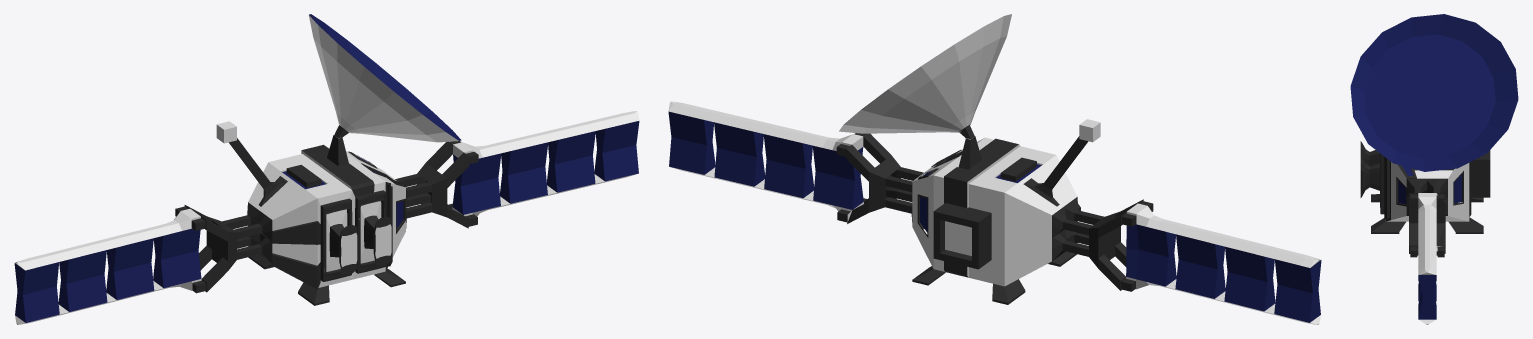
File: SatelliteEnemy.fbx
The picture shows the model from 3 angles, left to right: view 1: azimuth 30°, elevation 25°; view 2: azimuth 150°, elevation 25°; view 3: azimuth 270°, elevation 25°; orthographic projection. The views are drawn at different scales.
Visible parts, largest first — view 1: Dish Plate; view 2: Dish Plate; view 3: Dish Plate.
Boxes of the visible parts, bbox=[...] form: Dish Plate: bbox=[14, 14, 639, 324]; Dish Plate: bbox=[668, 14, 1321, 324]; Dish Plate: bbox=[1350, 14, 1518, 324].
Size of the model in its own units: 909 by 333 by 252.
